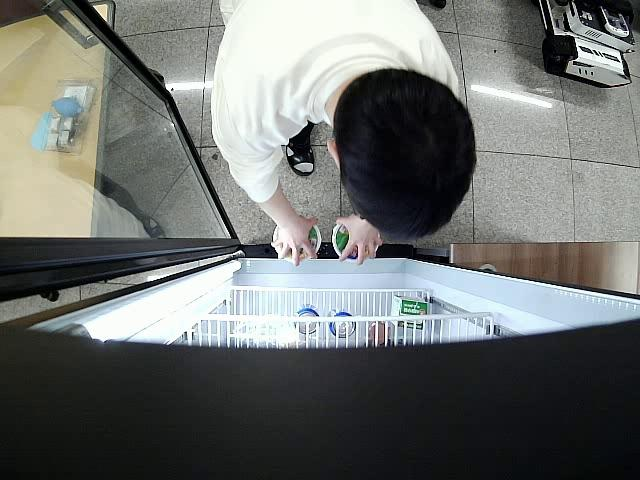00_hand: (336, 214, 383, 268), (271, 214, 319, 266)
09_yukGaeJang: (271, 224, 321, 264), (332, 222, 377, 263)
